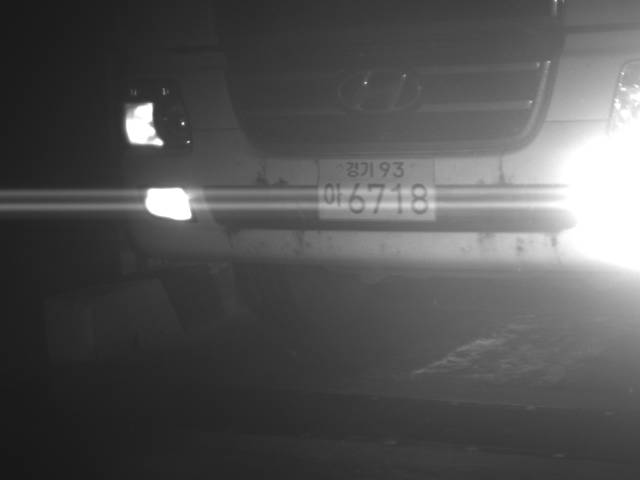car: (111, 1, 639, 342)
plate: (314, 153, 443, 224)
